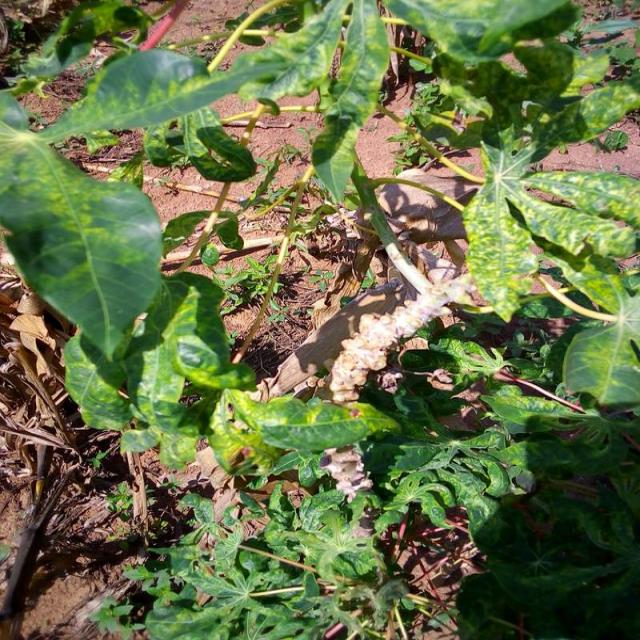cassava leaf: (2, 92, 165, 367), (311, 0, 391, 205)
